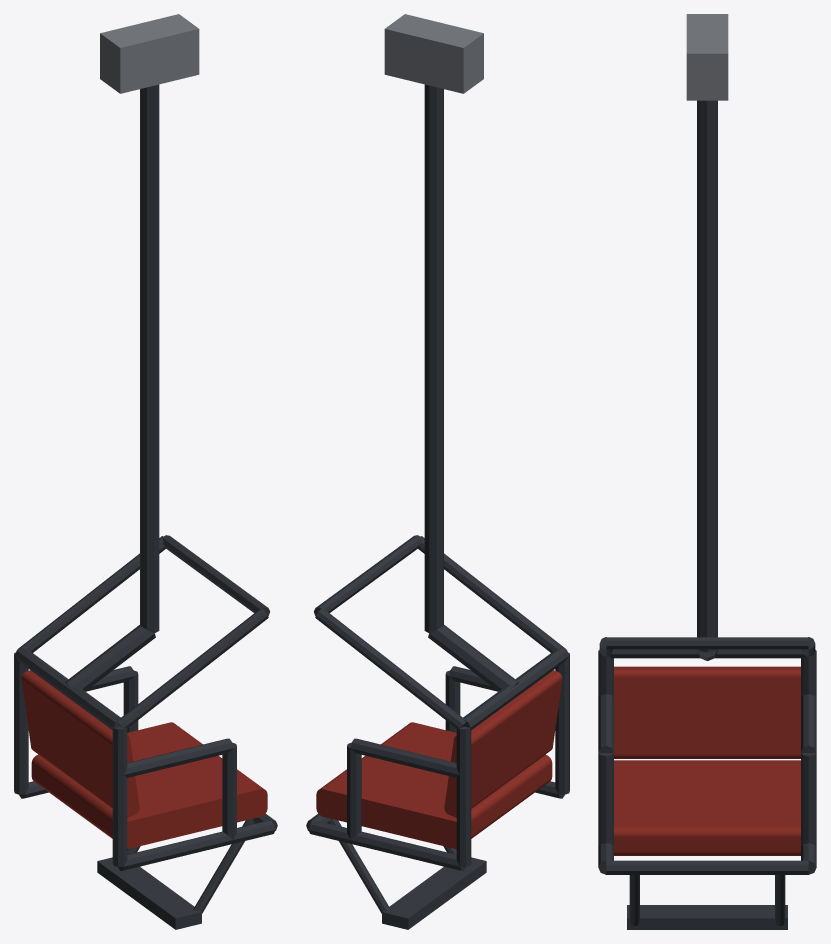
Rendered from chair_single.obj.
3 renders of one model, left to right at view 1: azimuth 30°, elevation 25°; view 2: azimuth 150°, elevation 25°; view 3: azimuth 270°, elevation 25°, orthographic. The views are drawn at different scales.
Bounding box in the file's own units: 0.75 × 3.78 × 0.84.
